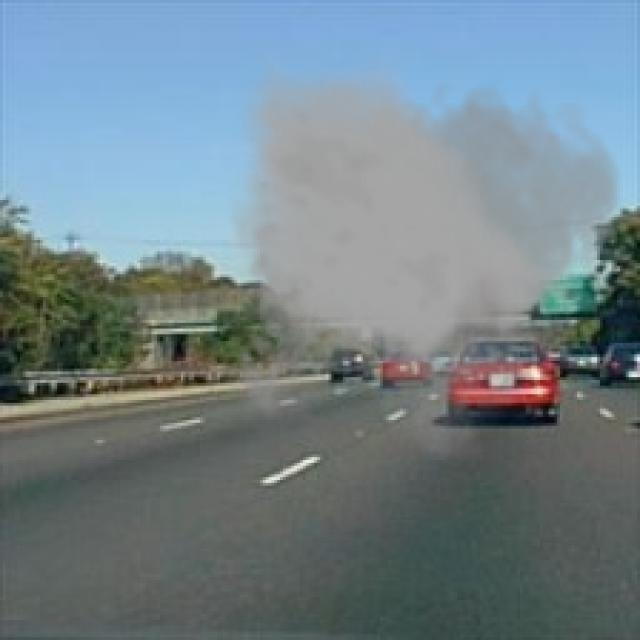Smoke: (223, 51, 626, 460)
